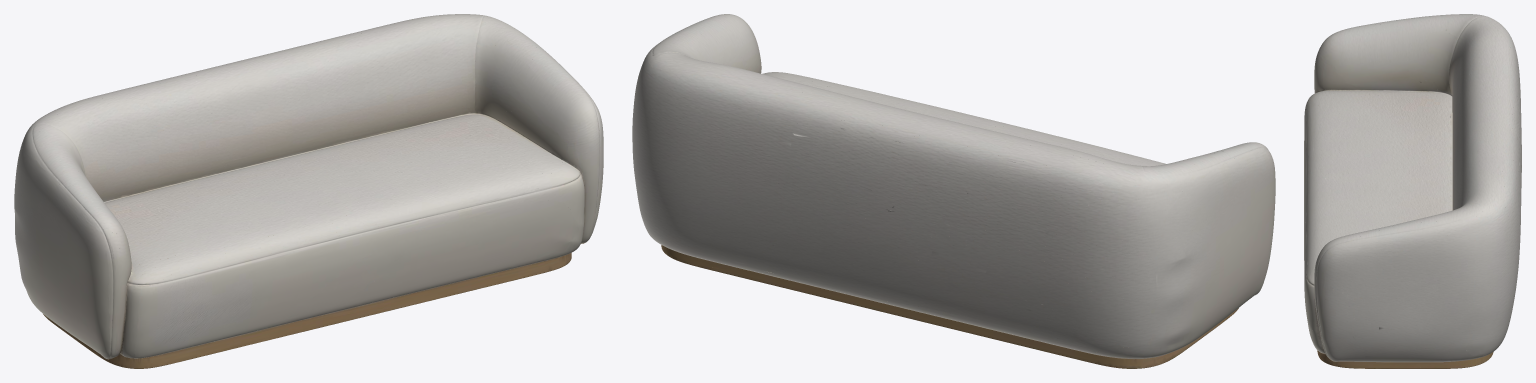
Rendered from alt_sofa_boucle.glb.
3 views of the same model, side by side, from view 1: azimuth 30°, elevation 25°; view 2: azimuth 150°, elevation 25°; view 3: azimuth 270°, elevation 25° (orthographic). The views are drawn at different scales.
Parts seen in each view (by area): view 1: node_0; view 2: node_0; view 3: node_0.
Part boxes in pixels (x1,y1,x2,y2): node_0: (14, 14, 603, 368); node_0: (632, 14, 1275, 368); node_0: (1304, 14, 1521, 368).
Bounding box in the file's own units: 1.15 × 0.3959 × 0.4799.
1 material, 1 textured.
